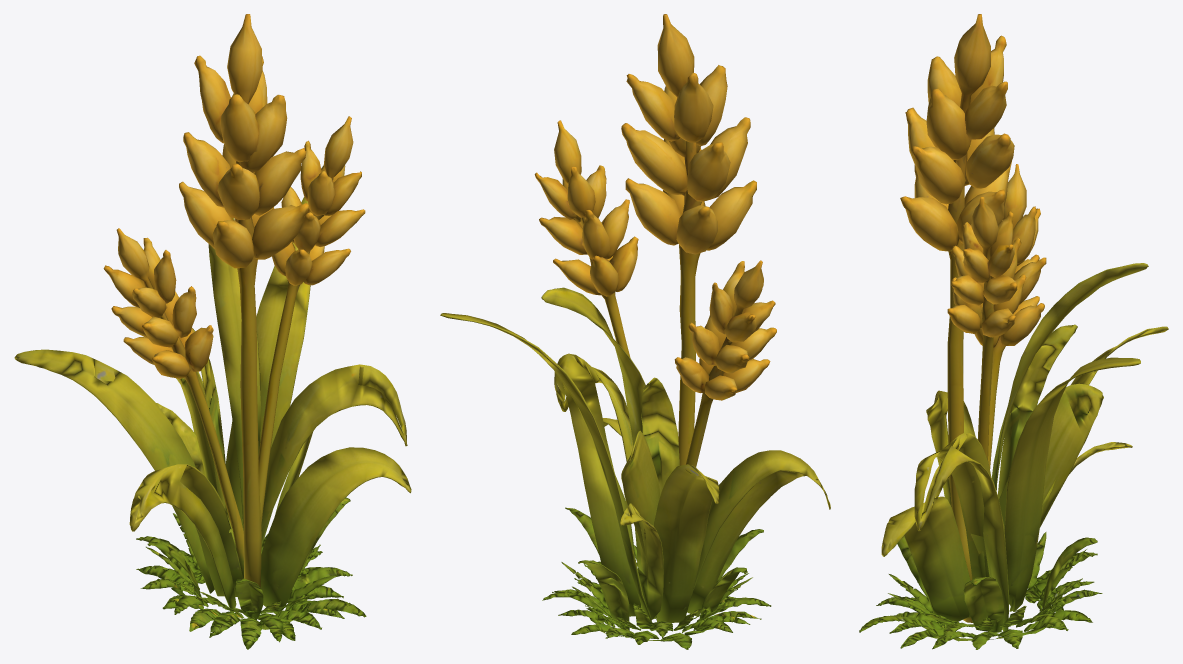
Rendered from world_wheat_3.fbx.
3 views of the same model, side by side, from view 1: azimuth 30°, elevation 25°; view 2: azimuth 150°, elevation 25°; view 3: azimuth 270°, elevation 25° (orthographic). The views are drawn at different scales.
Parts seen in each view (by area): view 1: tripo_node_d819add2; view 2: tripo_node_d819add2; view 3: tripo_node_d819add2.
Part boxes in pixels (bbox=[...]): tripo_node_d819add2: bbox=[14, 14, 411, 649]; tripo_node_d819add2: bbox=[440, 14, 830, 649]; tripo_node_d819add2: bbox=[859, 14, 1168, 649].
Size of the model in its own units: 0.498 by 0.998 by 0.459.
